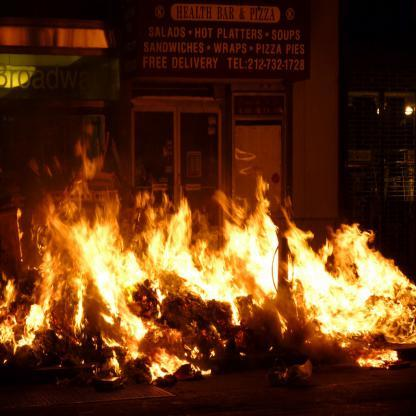fire: (1, 178, 411, 390)
